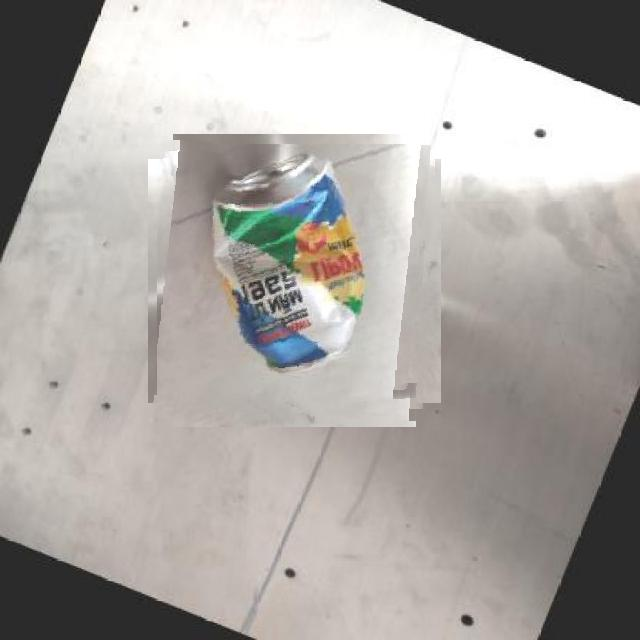recyclable: (157, 144, 432, 418)
